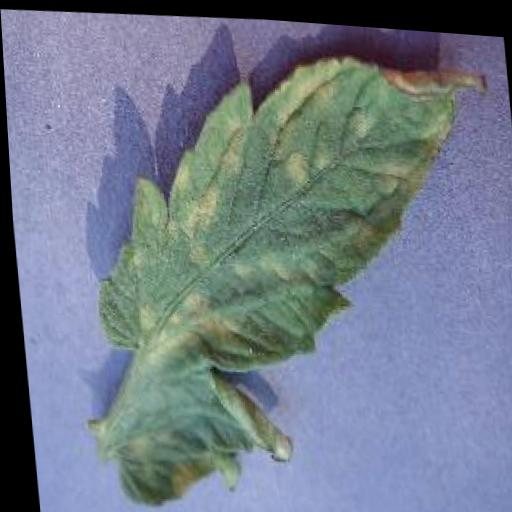Leaf Mold: (68, 28, 512, 512)
